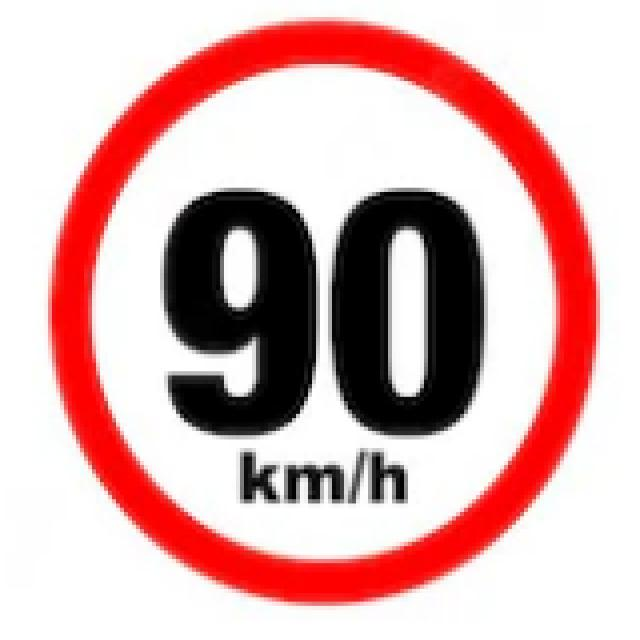Speed Limit -90-: (161, 178, 495, 444)
